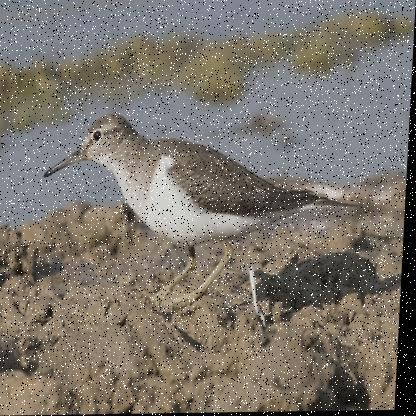Burung: (39, 110, 363, 309)
